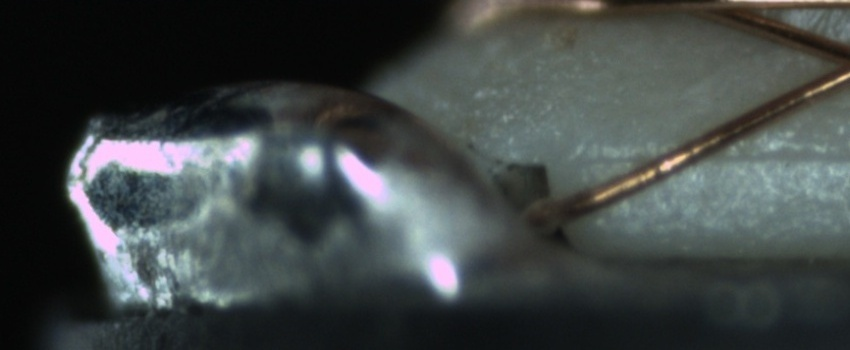DL: (605, 121, 847, 187)
